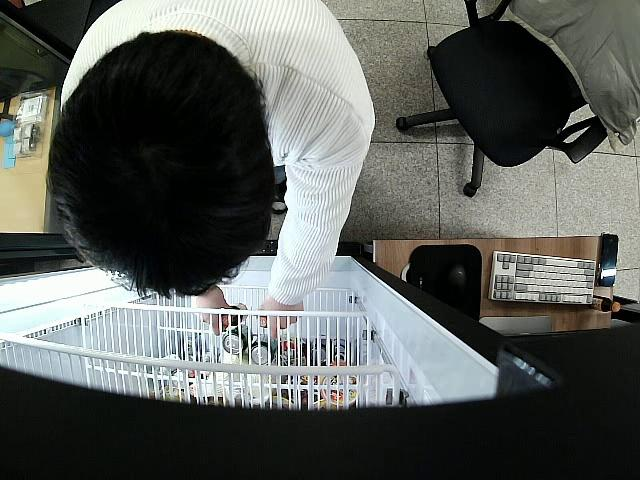00_hand: (194, 284, 232, 334), (260, 296, 305, 334)
17_vita500: (220, 301, 248, 328)
